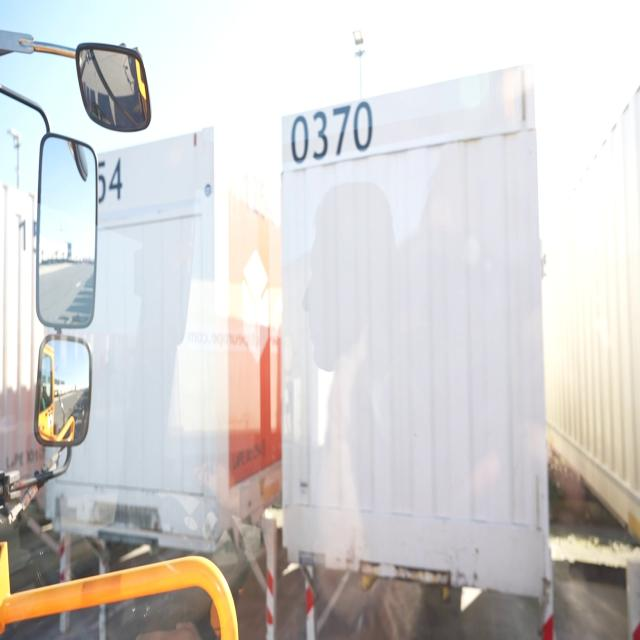Code: (286, 94, 379, 170)
